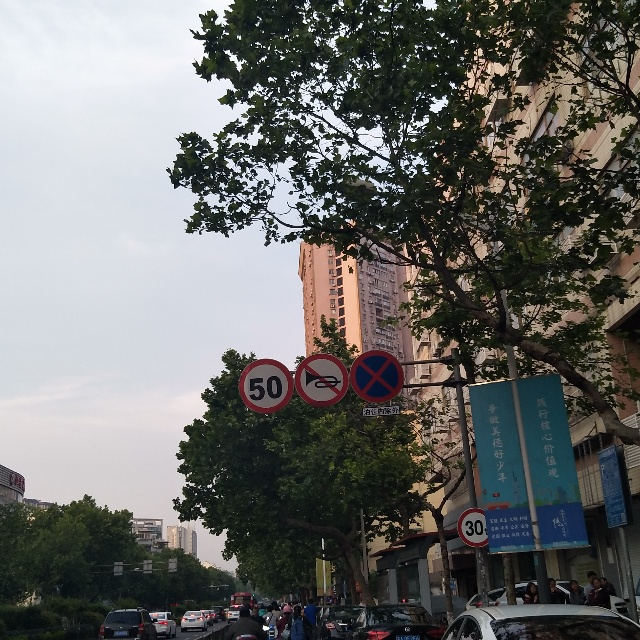nohonk: (295, 354, 349, 407)
stop: (350, 350, 404, 403)
